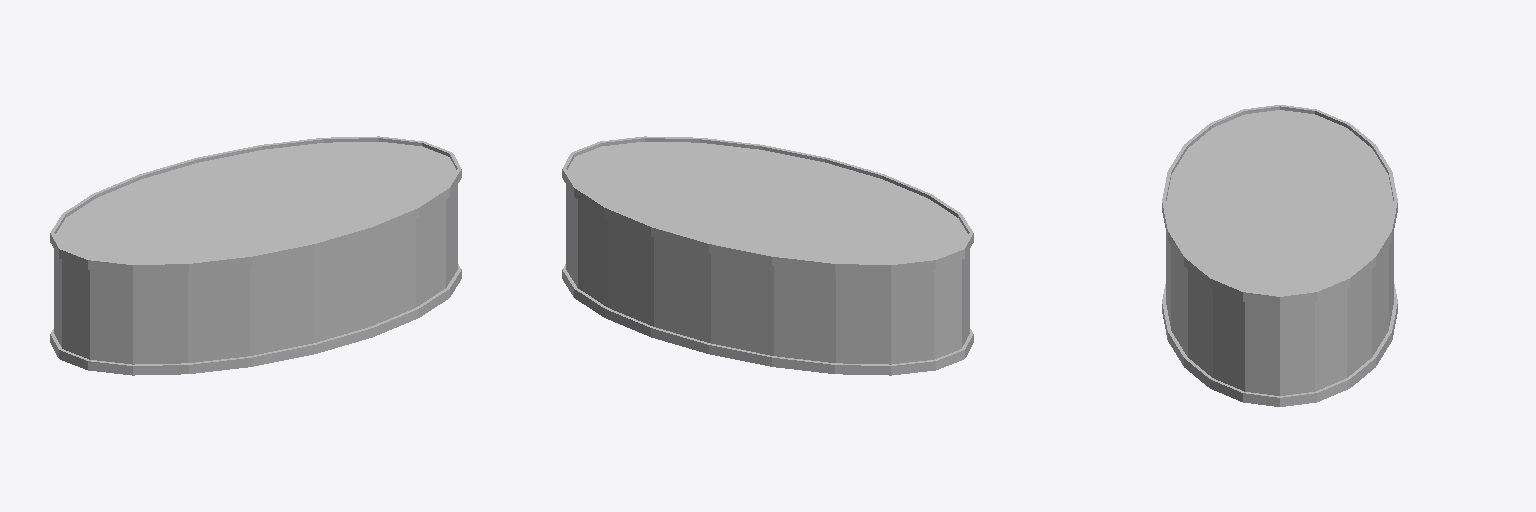
The model's file is Can_Sardines.obj.
3 views of the same model, side by side, from view 1: azimuth 30°, elevation 25°; view 2: azimuth 150°, elevation 25°; view 3: azimuth 270°, elevation 25° (orthographic).
Parts seen in each view (by area): view 1: pCylinder1; view 2: pCylinder1; view 3: pCylinder1.
Part boxes in pixels (x1,y1,x2,y2): pCylinder1: (50, 136, 461, 375); pCylinder1: (562, 136, 973, 375); pCylinder1: (1162, 105, 1397, 406).
Size of the model in its own units: 1.2 by 0.32 by 0.6201.